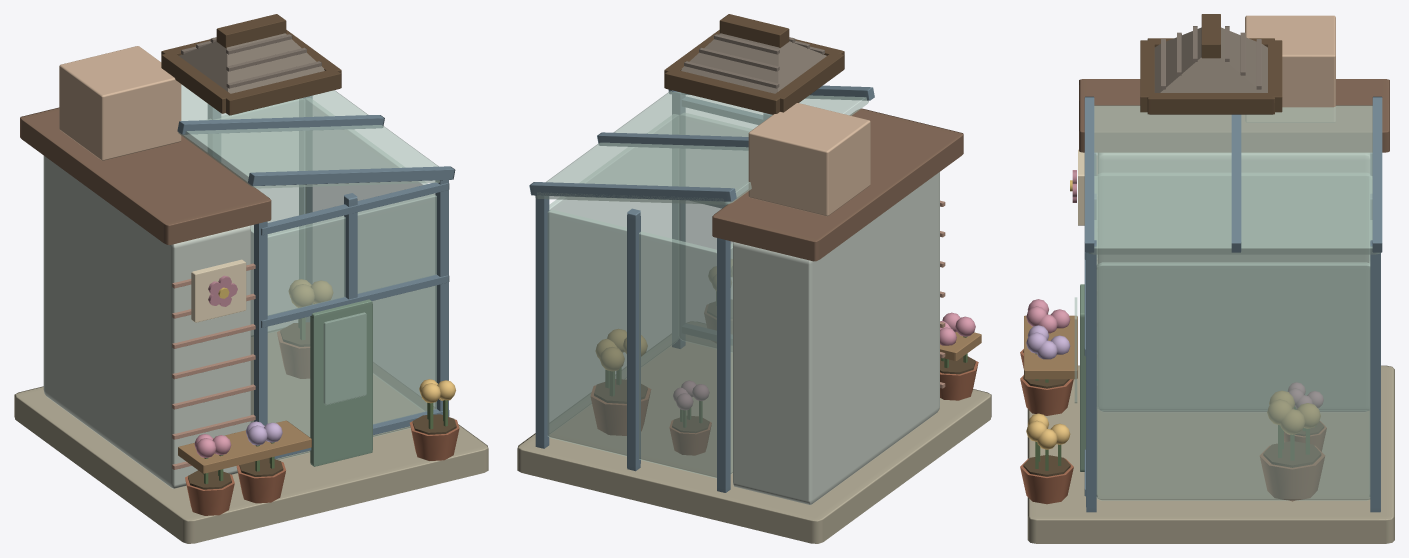
The model's file is florist-2.glb.
The picture shows the model from 3 angles, left to right: view 1: azimuth 30°, elevation 25°; view 2: azimuth 150°, elevation 25°; view 3: azimuth 270°, elevation 25°; orthographic projection. The views are drawn at different scales.
Visible parts, largest first — view 1: florist-2-0; view 2: florist-2-0; view 3: florist-2-0.
Boxes of the visible parts, left/top/right/bottom form: florist-2-0: left=14, top=14, right=488, bottom=543; florist-2-0: left=517, top=14, right=991, bottom=543; florist-2-0: left=1020, top=14, right=1394, bottom=543.
Size of the model in its own units: 1.9 by 2.5 by 1.94.
